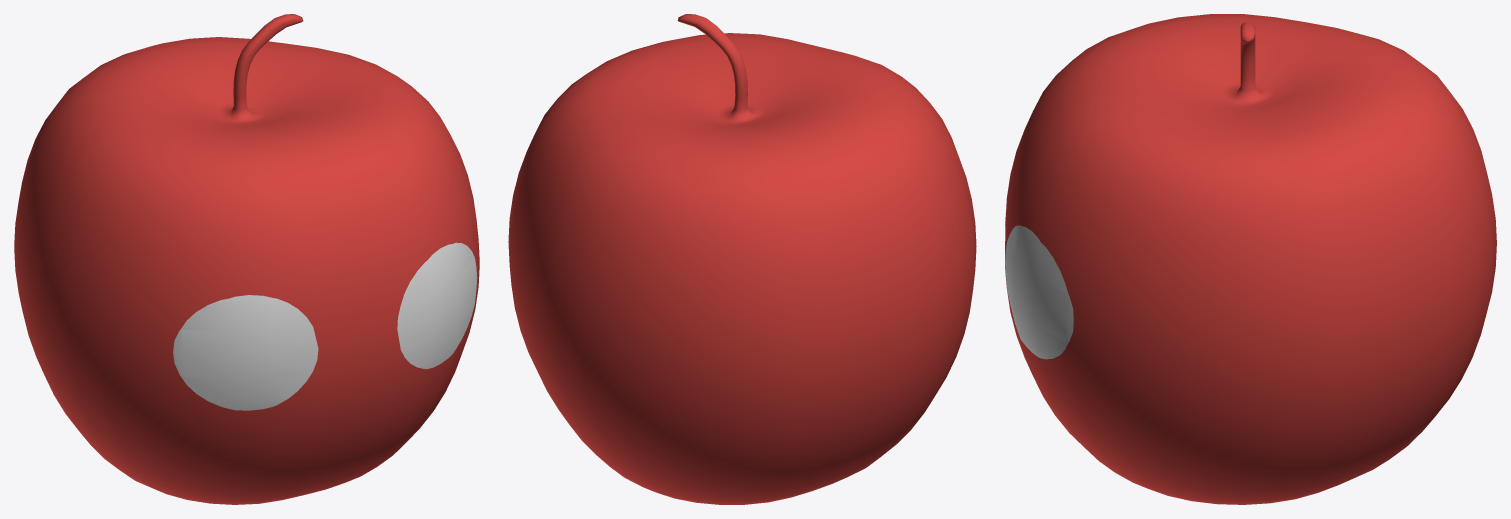
File: appleAnimated.fbx
3 renders of one model, left to right at view 1: azimuth 30°, elevation 25°; view 2: azimuth 150°, elevation 25°; view 3: azimuth 270°, elevation 25°, orthographic. The views are drawn at different scales.
Visible parts, largest first — view 1: appke2, eyes; view 2: appke2; view 3: appke2, eyes.
Part boxes in pixels (bbox=[...]): appke2: bbox=[14, 14, 479, 504]; eyes: bbox=[173, 242, 477, 410]; appke2: bbox=[508, 14, 976, 504]; appke2: bbox=[1005, 14, 1496, 504]; eyes: bbox=[1005, 209, 1073, 359].
Bounding box in the file's own units: 14.61 × 14.85 × 14.69.
